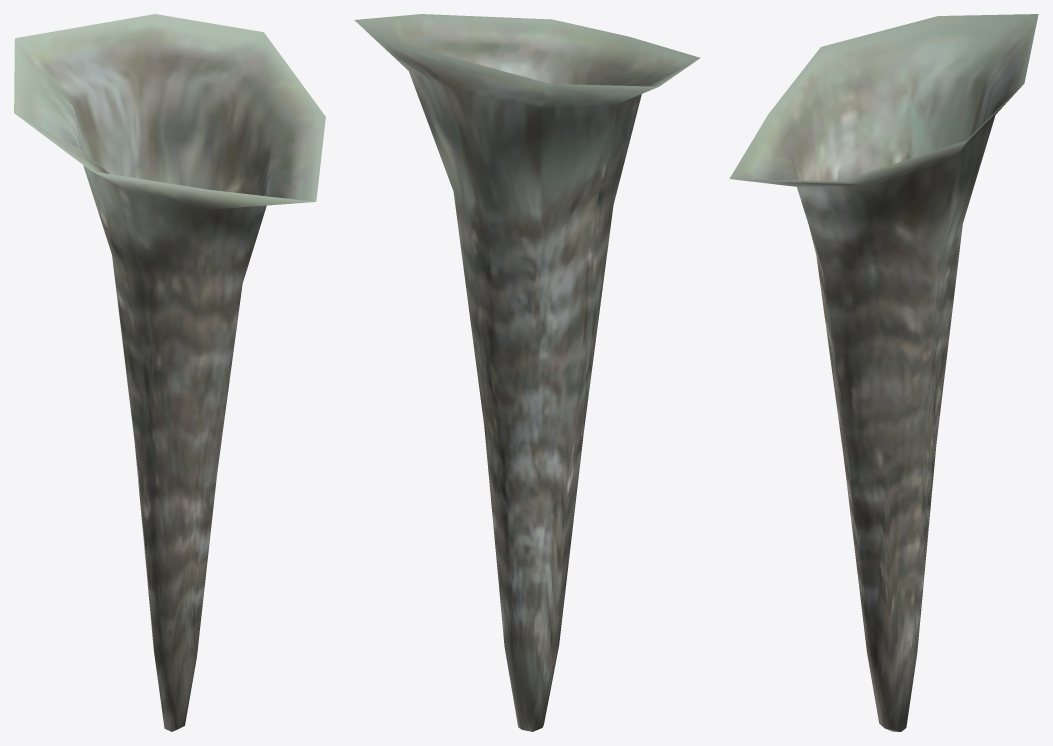
File: TROLLHOLE02_PS-UPPERSTALAG29.fbx
3 renders of one model, left to right at view 1: azimuth 30°, elevation 25°; view 2: azimuth 150°, elevation 25°; view 3: azimuth 270°, elevation 25°, orthographic. The views are drawn at different scales.
Parts seen in each view (by area): view 1: TROLLHOLE02_PS-UPPERSTALAG29; view 2: TROLLHOLE02_PS-UPPERSTALAG29; view 3: TROLLHOLE02_PS-UPPERSTALAG29.
Boxes of the visible parts, <box> form: TROLLHOLE02_PS-UPPERSTALAG29: <box>14,14,325,731</box>; TROLLHOLE02_PS-UPPERSTALAG29: <box>354,14,700,731</box>; TROLLHOLE02_PS-UPPERSTALAG29: <box>729,14,1038,731</box>.
Bounding box in the file's own units: 9920 × 23749 × 9878.
Materials: 1 (1 with a texture image).
